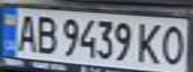3: (93, 17, 115, 61)
4: (78, 16, 96, 58)
9: (112, 18, 136, 62), (57, 15, 81, 57)
A: (12, 11, 39, 53)
B: (33, 12, 60, 55)
K: (136, 20, 166, 65)
O: (157, 21, 190, 66)
